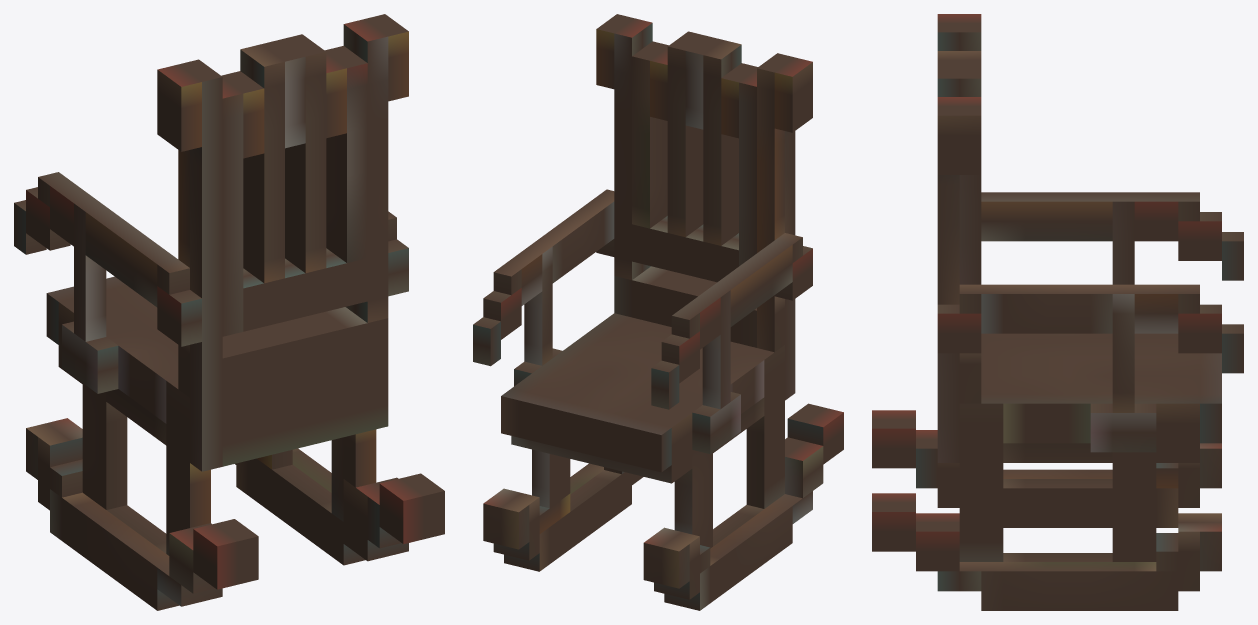
File: RockingChair_00.fbx
The picture shows the model from 3 angles, left to right: view 1: azimuth 30°, elevation 25°; view 2: azimuth 150°, elevation 25°; view 3: azimuth 270°, elevation 25°; orthographic projection. The views are drawn at different scales.
Parts seen in each view (by area): view 1: RockingChair_00; view 2: RockingChair_00; view 3: RockingChair_00.
Boxes of the visible parts, x1,y1,x2,y2 form: RockingChair_00: (14,14,444,610); RockingChair_00: (473,14,843,610); RockingChair_00: (872,14,1243,610).
Bounding box in the file's own units: 55 × 85 × 125.
Materials: 1 (1 with a texture image).
